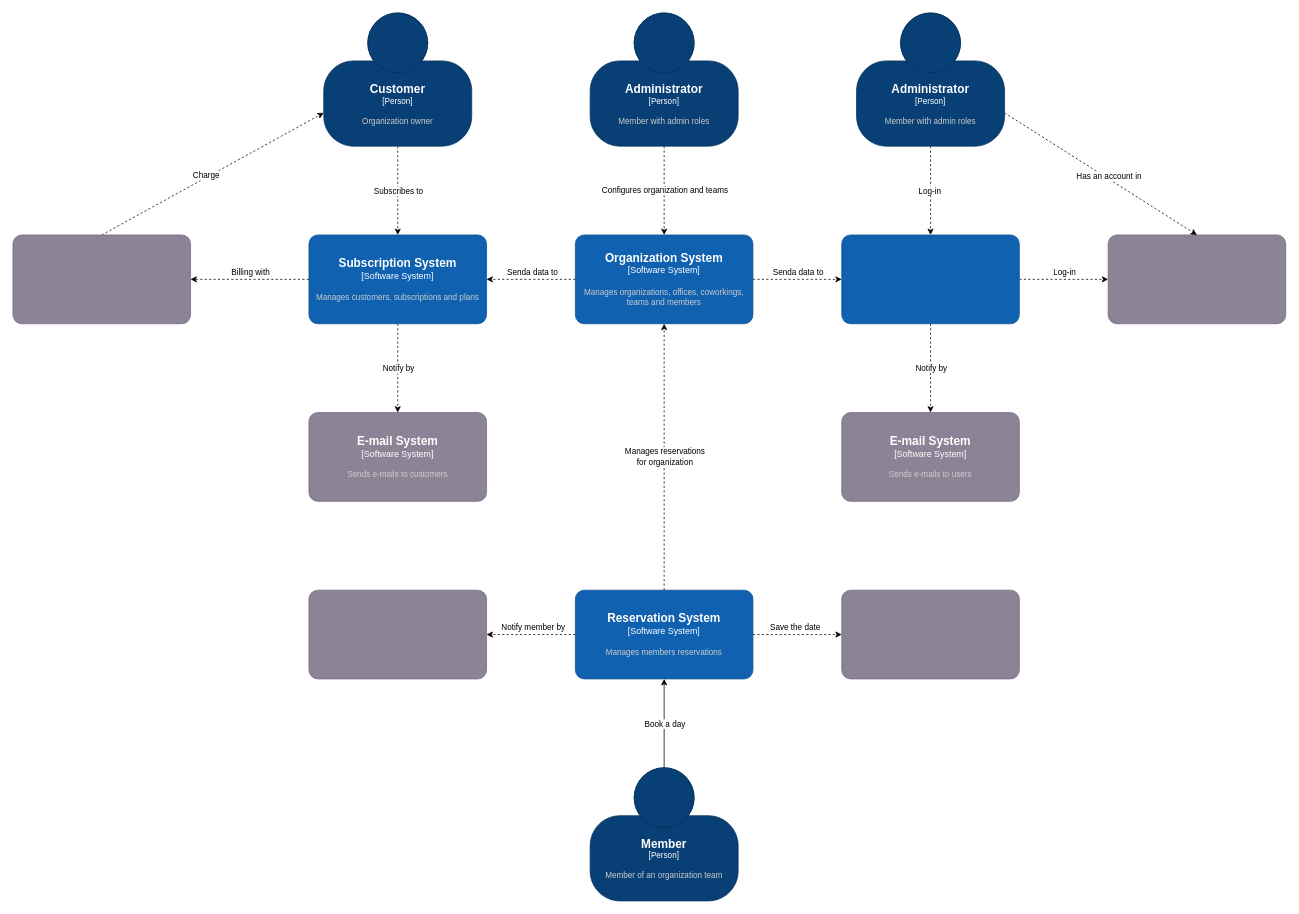
The diagram is 1299 pixels wide and 914 high, and some of its shapes have lost their labels. Here are the shapes that lost their labels. From the top down, the centre of each, then its label:
the point at 101,279: Billing System [Software System] Manages billings and invoices
the point at 930,279: Identity System [Software System] Manages users, roles and authentication
the point at 1196,279: Identity Provider [Software System] A SSO provider for user authentication
the point at 397,634: Notification System [Software System] Sends notifications to members
the point at 930,634: Calendar System [Software System] Save the date in the member's calendar
